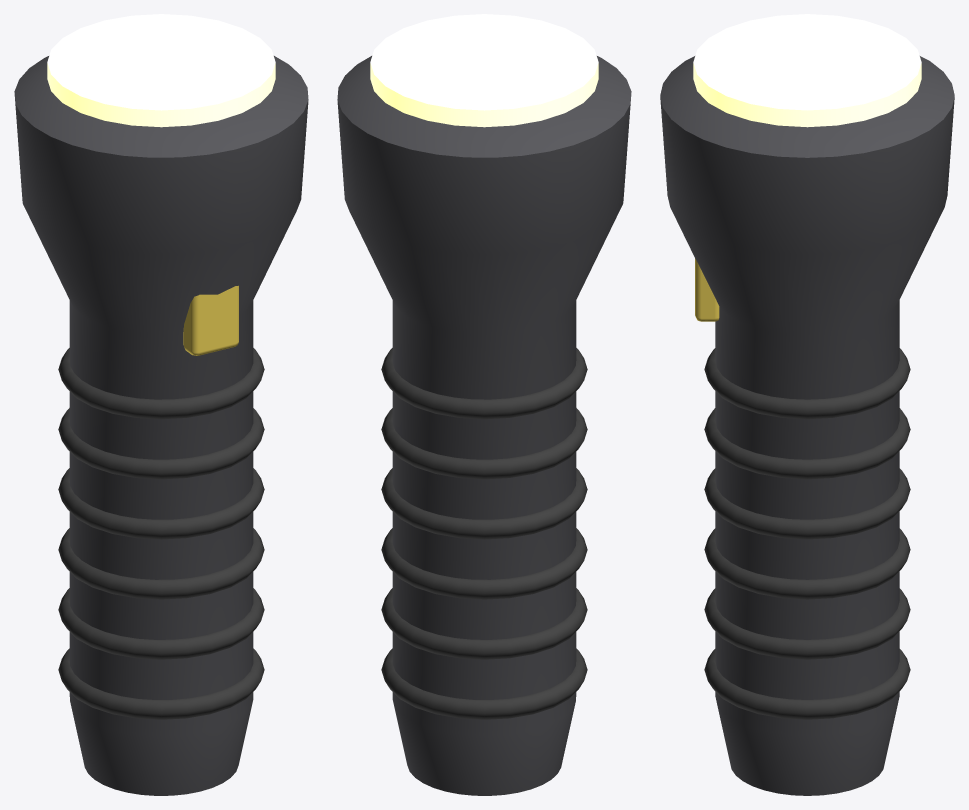
File: linterna_tactica.glb
The picture shows the model from 3 angles, left to right: view 1: azimuth 30°, elevation 25°; view 2: azimuth 150°, elevation 25°; view 3: azimuth 270°, elevation 25°; orthographic projection.
Parts seen in each view (by area): view 1: flashlight; view 2: flashlight; view 3: flashlight.
Part boxes in pixels (x1,y1,x2,y2): flashlight: [14, 14, 308, 795]; flashlight: [337, 14, 631, 795]; flashlight: [660, 14, 954, 795].
Size of the model in its own units: 0.08 by 0.21 by 0.08.
